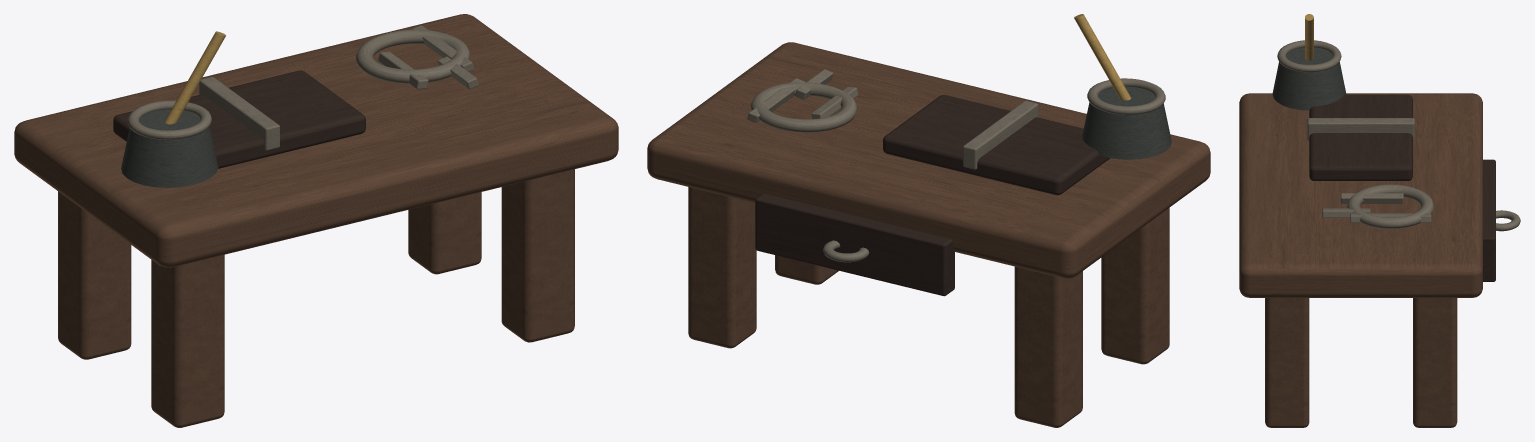
File: jailer_desk.glb
3 views of the same model, side by side, from view 1: azimuth 30°, elevation 25°; view 2: azimuth 150°, elevation 25°; view 3: azimuth 270°, elevation 25° (orthographic). The views are drawn at different scales.
Visible parts, largest first — view 1: jailer_desk; view 2: jailer_desk; view 3: jailer_desk.
Part boxes in pixels (bbox=[...]): jailer_desk: bbox=[14, 14, 618, 427]; jailer_desk: bbox=[647, 14, 1210, 427]; jailer_desk: bbox=[1239, 14, 1520, 427].
Size of the model in its own units: 1.2 by 0.9 by 0.8.
Materials: 1 (1 with a texture image).
